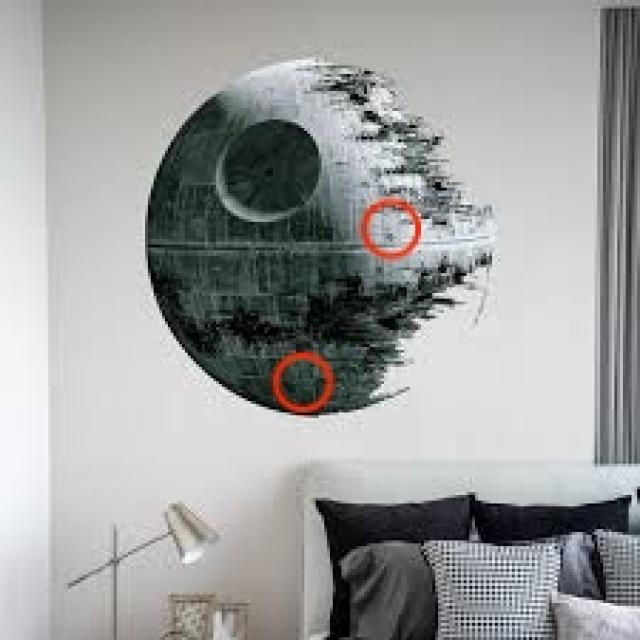deathStar: (152, 61, 492, 416)
